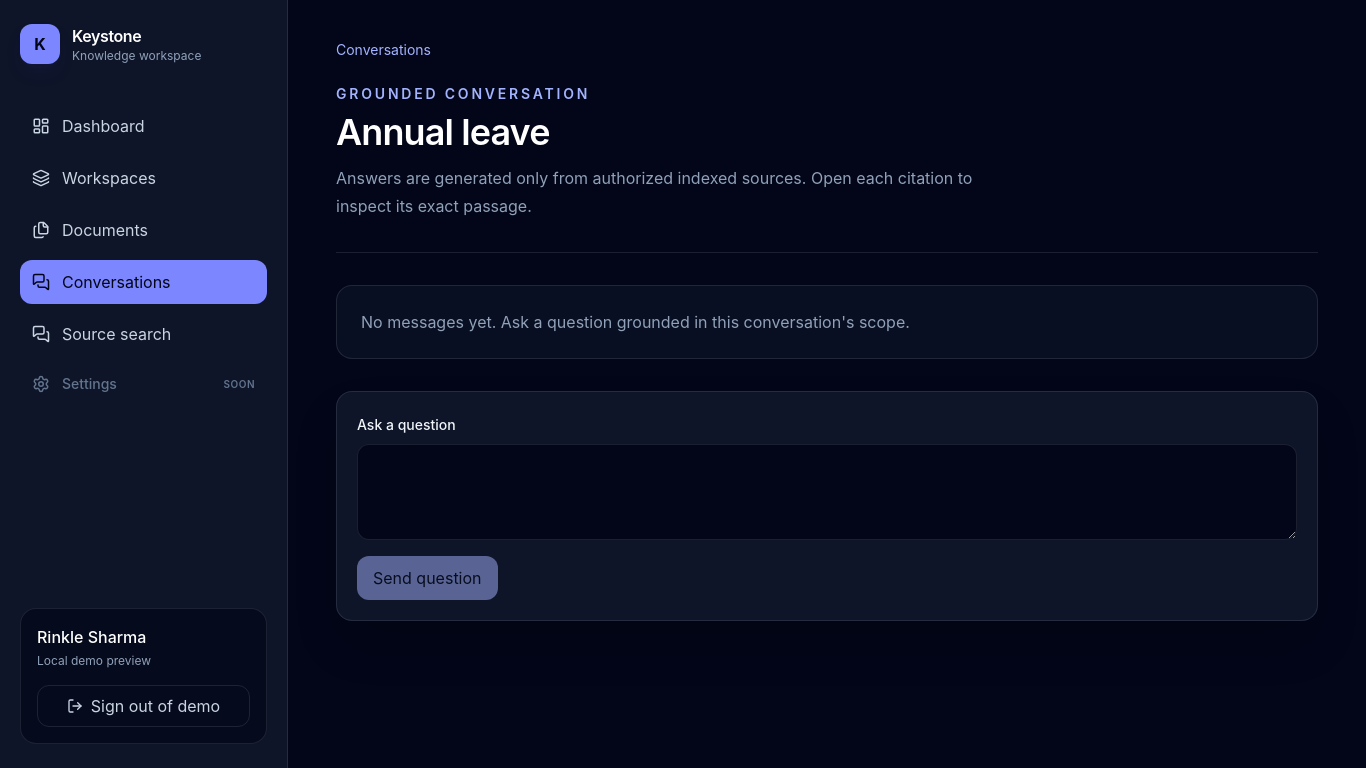
Test case: conversation routes › preserves a new draft while the previous answer is being generated
Step 1. Type "First question" into the text box labelled "Ask a question" → (827, 492), box [357,444,1297,540]
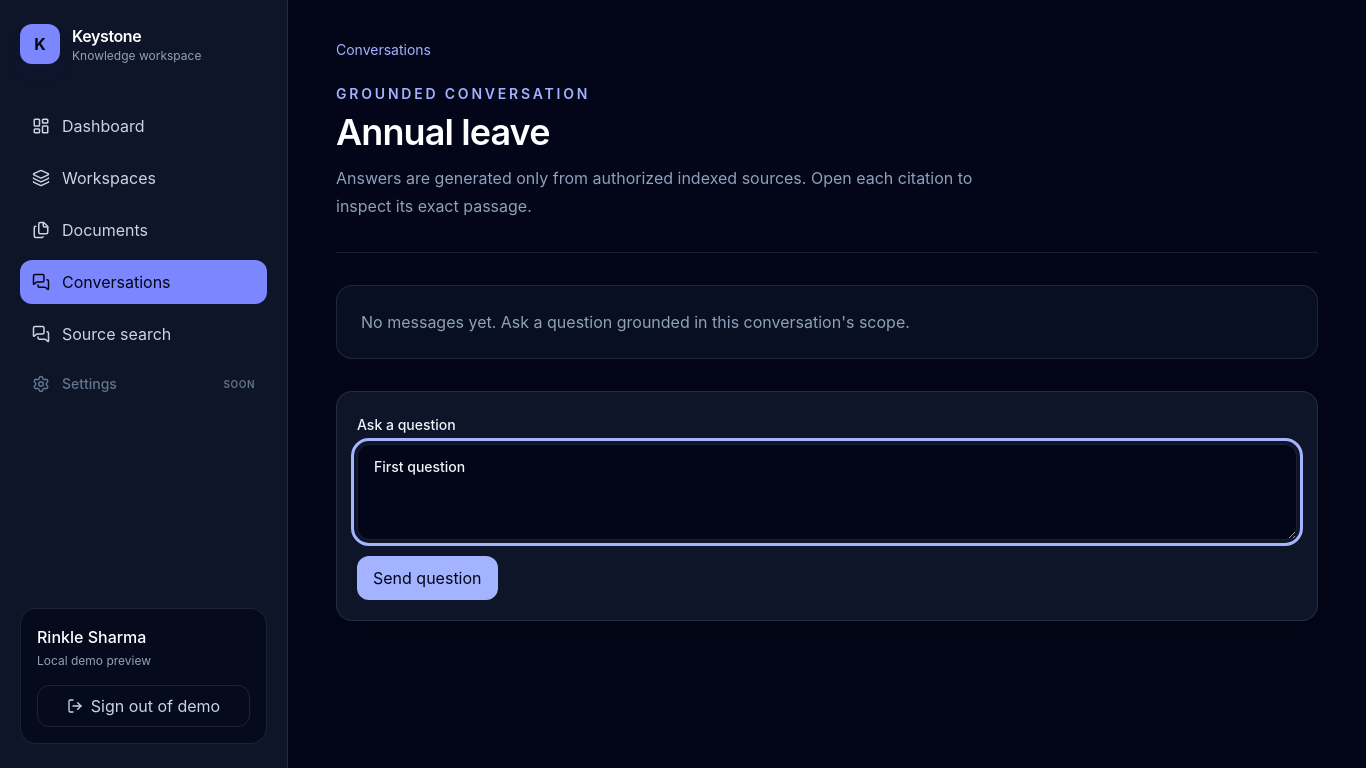
Step 2. Click the button "Send question" → (427, 578), box [357,556,498,600]
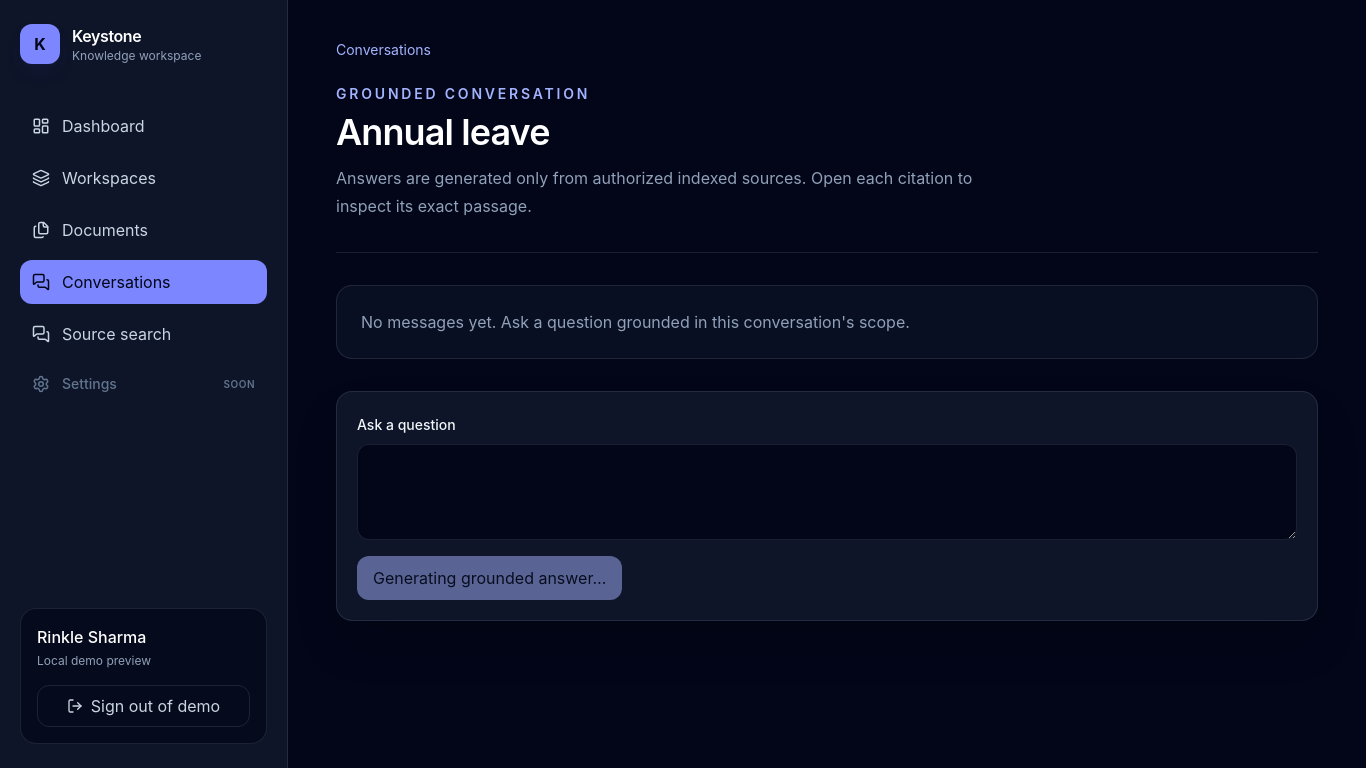
Step 3. Type "Next draft" into the text box labelled "Ask a question" → (827, 492), box [357,444,1297,540]
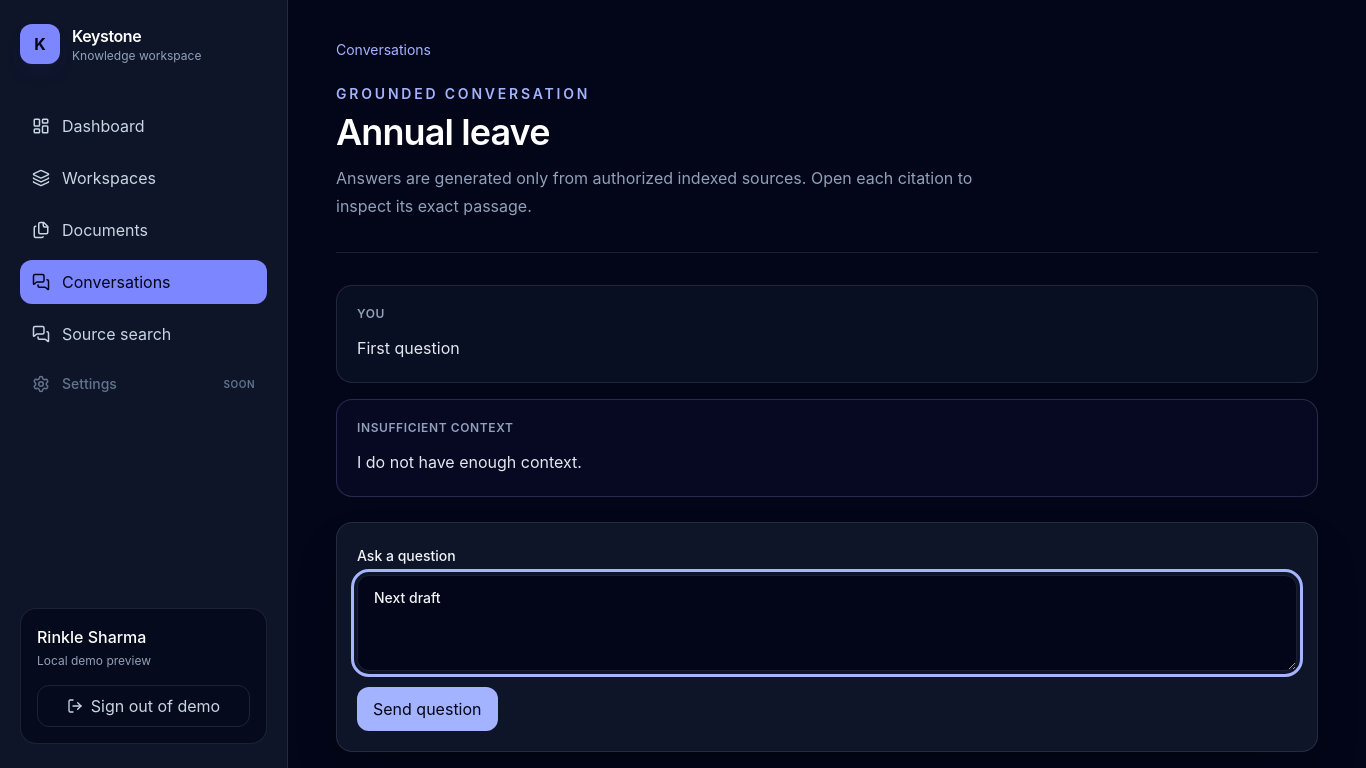
Expected: the text "I do not have enough context." is shown, [357,452,582,472]
